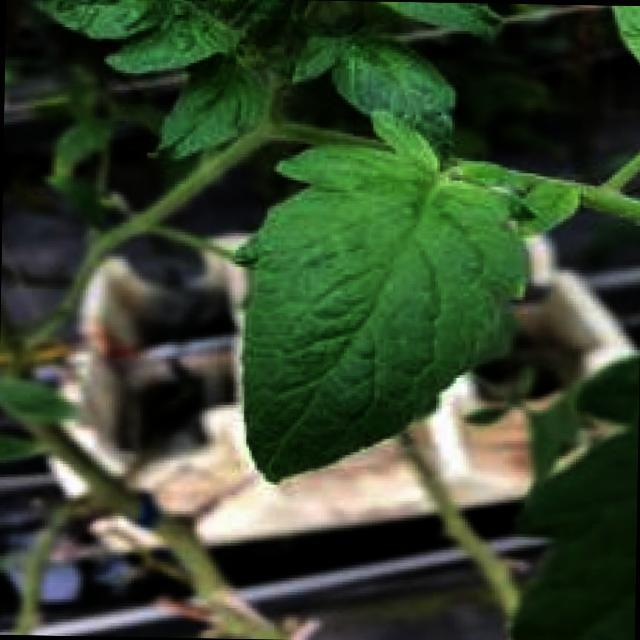Tomato healthy leaf: (244, 114, 603, 484)
